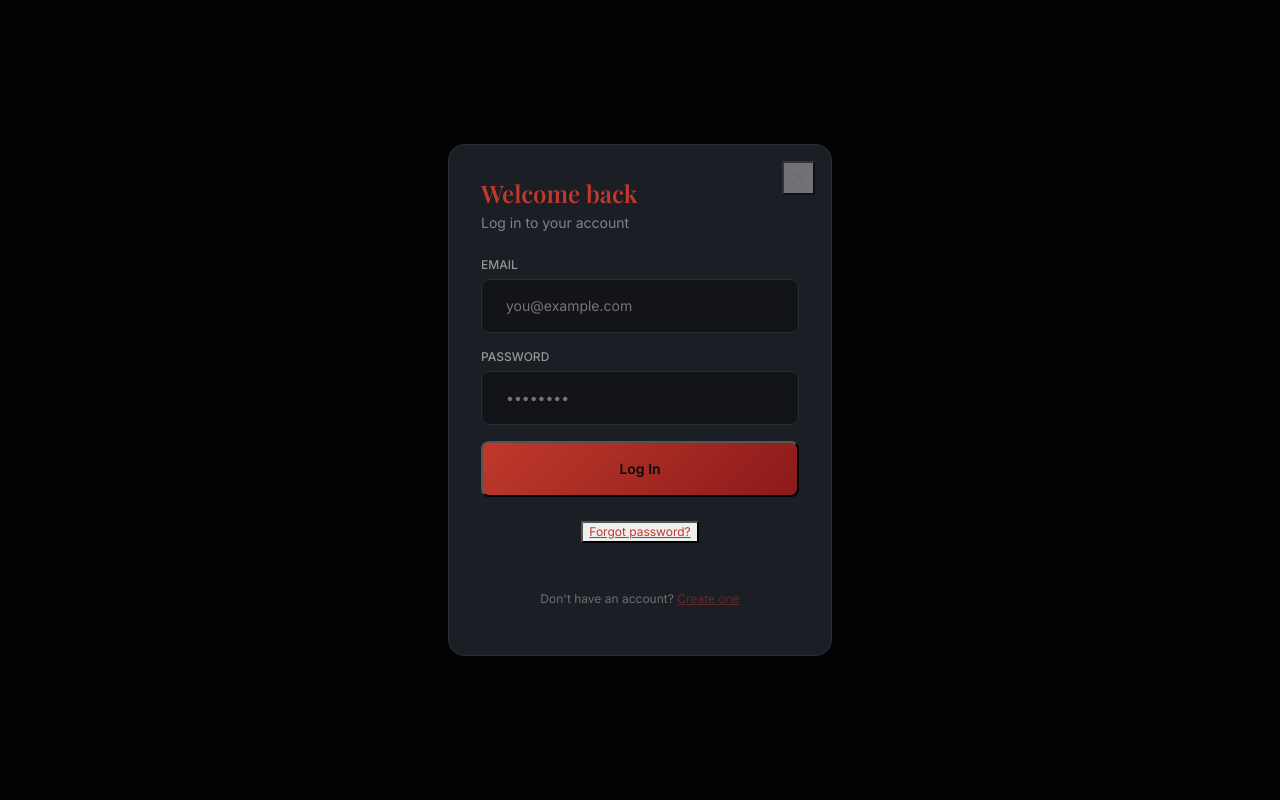
Login popup › a server that cannot be reached shows an error
In the field labelled "EMAIL": (640, 306) [481, 279, 799, 333], type "preston@example.com"
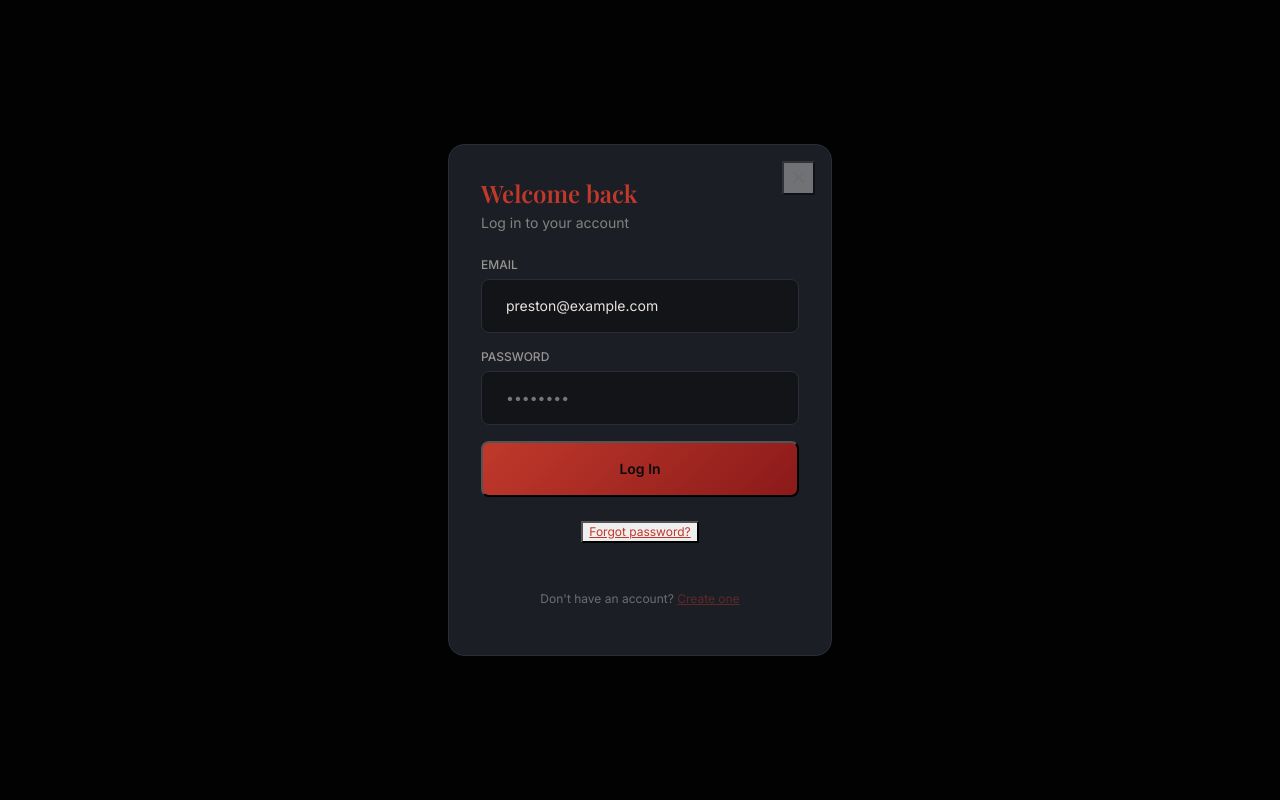
In the password field labelled "PASSWORD": (640, 398) [481, 371, 799, 425], type "password123"
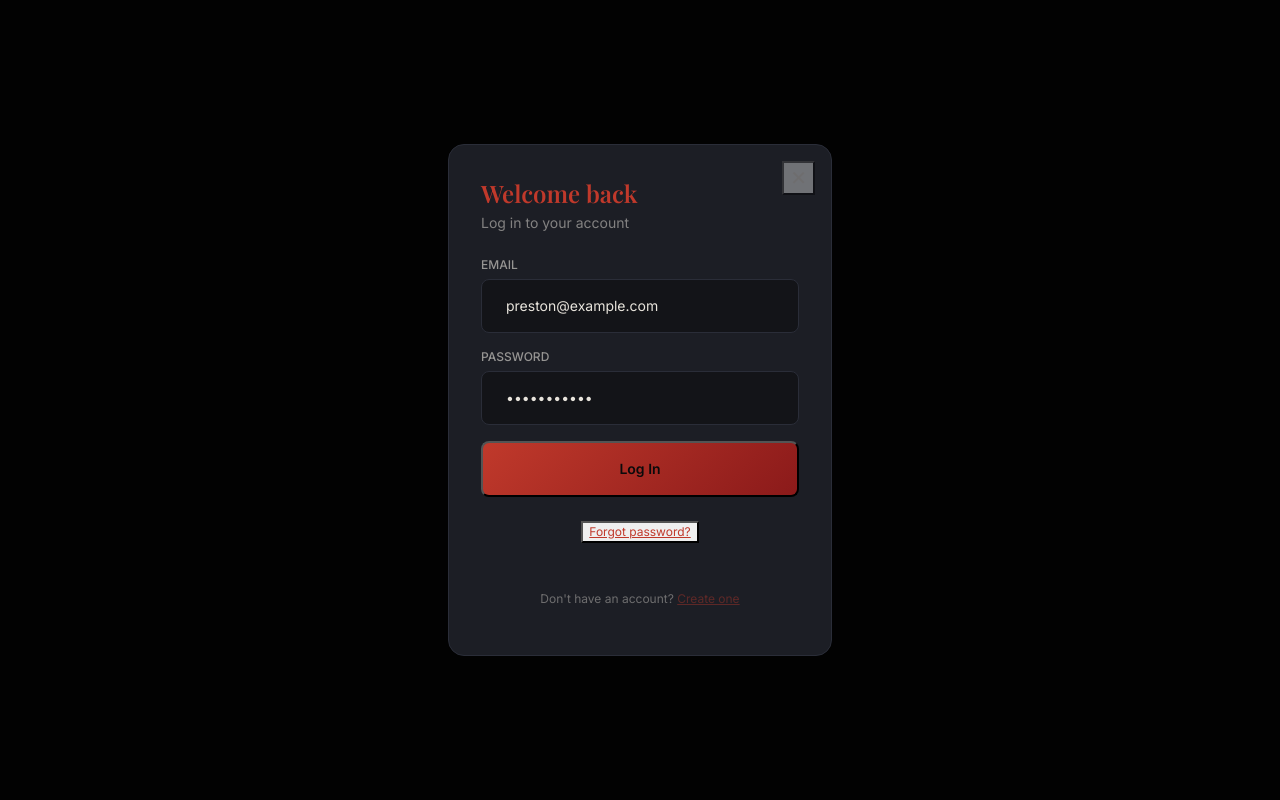
Click the button "Log In": (640, 469) [481, 441, 799, 497]
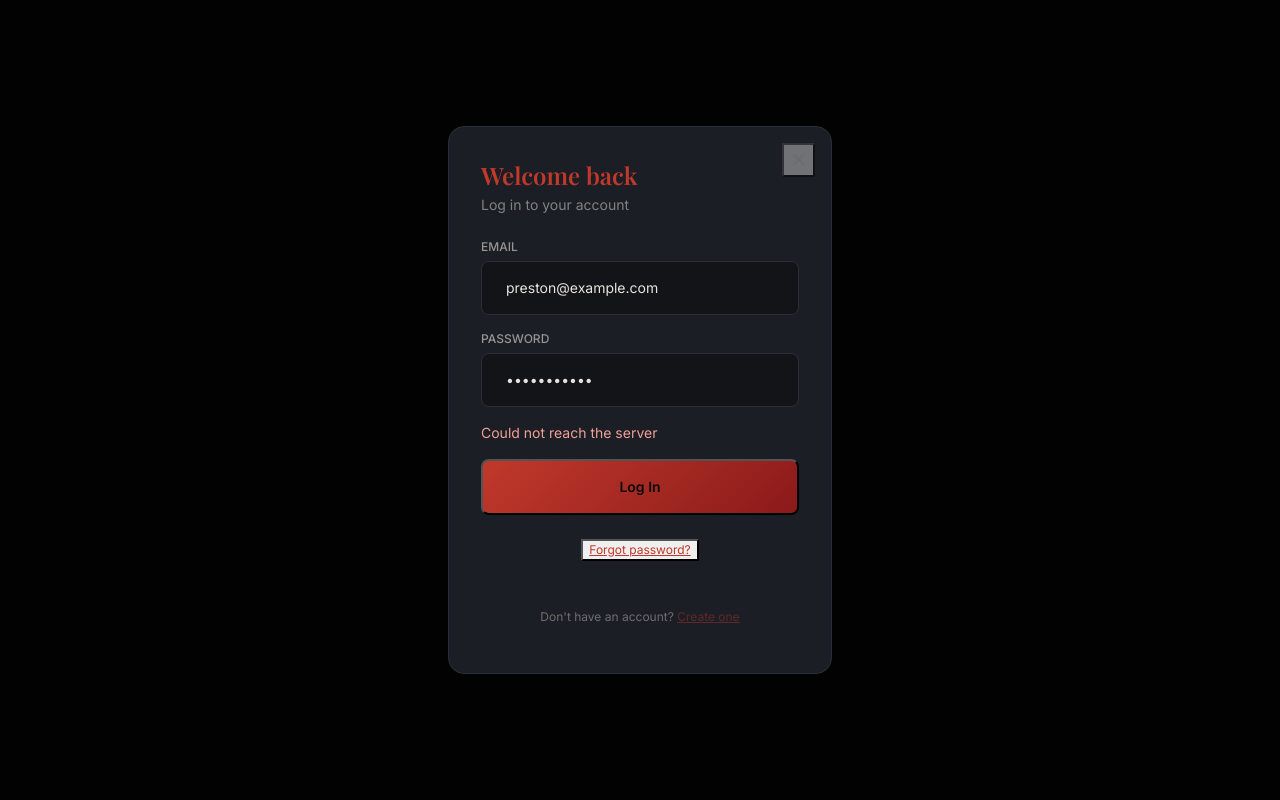
Expected: the message reads "Could not reach the server", [481, 424, 657, 441]
